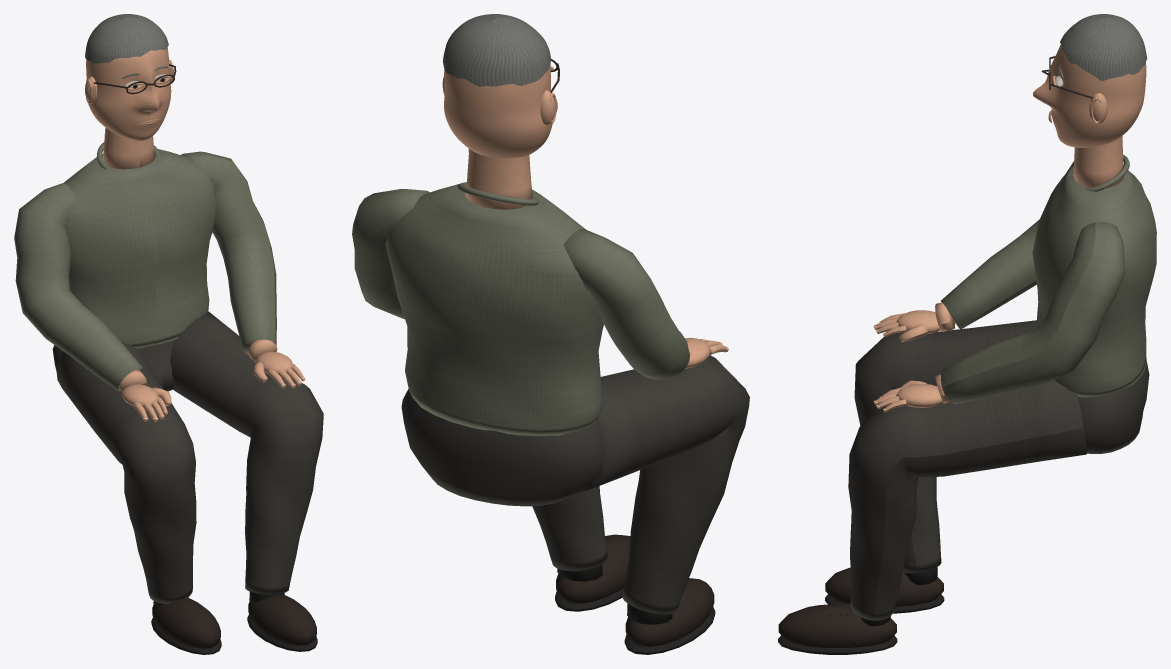
Rendered from 03_Owen_LOD1.glb.
3 views of the same model, side by side, from view 1: azimuth 30°, elevation 25°; view 2: azimuth 150°, elevation 25°; view 3: azimuth 270°, elevation 25° (orthographic). The views are drawn at different scales.
Visible parts, largest first — view 1: top, trousers, face, shoes, skin, hair, sole; view 2: top, trousers, face, hair, shoes, skin, sole; view 3: trousers, top, face, skin, shoes, hair, sole.
Boxes of the visible parts, x1=… form: top: x1=14, y1=142, x2=276, y2=390; trousers: x1=52, y1=311, x2=323, y2=603; face: x1=86, y1=48, x2=171, y2=140; shoes: x1=94, y1=64, x2=316, y2=648; skin: x1=85, y1=59, x2=305, y2=421; hair: x1=85, y1=14, x2=168, y2=78; sole: x1=151, y1=591, x2=317, y2=654; top: x1=352, y1=182, x2=689, y2=436; trousers: x1=401, y1=355, x2=749, y2=614; face: x1=444, y1=67, x2=552, y2=158; hair: x1=442, y1=14, x2=550, y2=86; shoes: x1=550, y1=59, x2=714, y2=646; skin: x1=442, y1=65, x2=728, y2=368; sole: x1=555, y1=549, x2=715, y2=654; trousers: x1=848, y1=320, x2=1149, y2=620; top: x1=940, y1=154, x2=1156, y2=404; face: x1=1033, y1=44, x2=1146, y2=147; skin: x1=874, y1=75, x2=1123, y2=412; shoes: x1=778, y1=56, x2=1092, y2=647; hair: x1=1057, y1=14, x2=1147, y2=81; sole: x1=778, y1=567, x2=944, y2=654.
Bounding box in the file's own units: 0.6475 × 1.37 × 0.7675.
12 materials, 12 textured.
